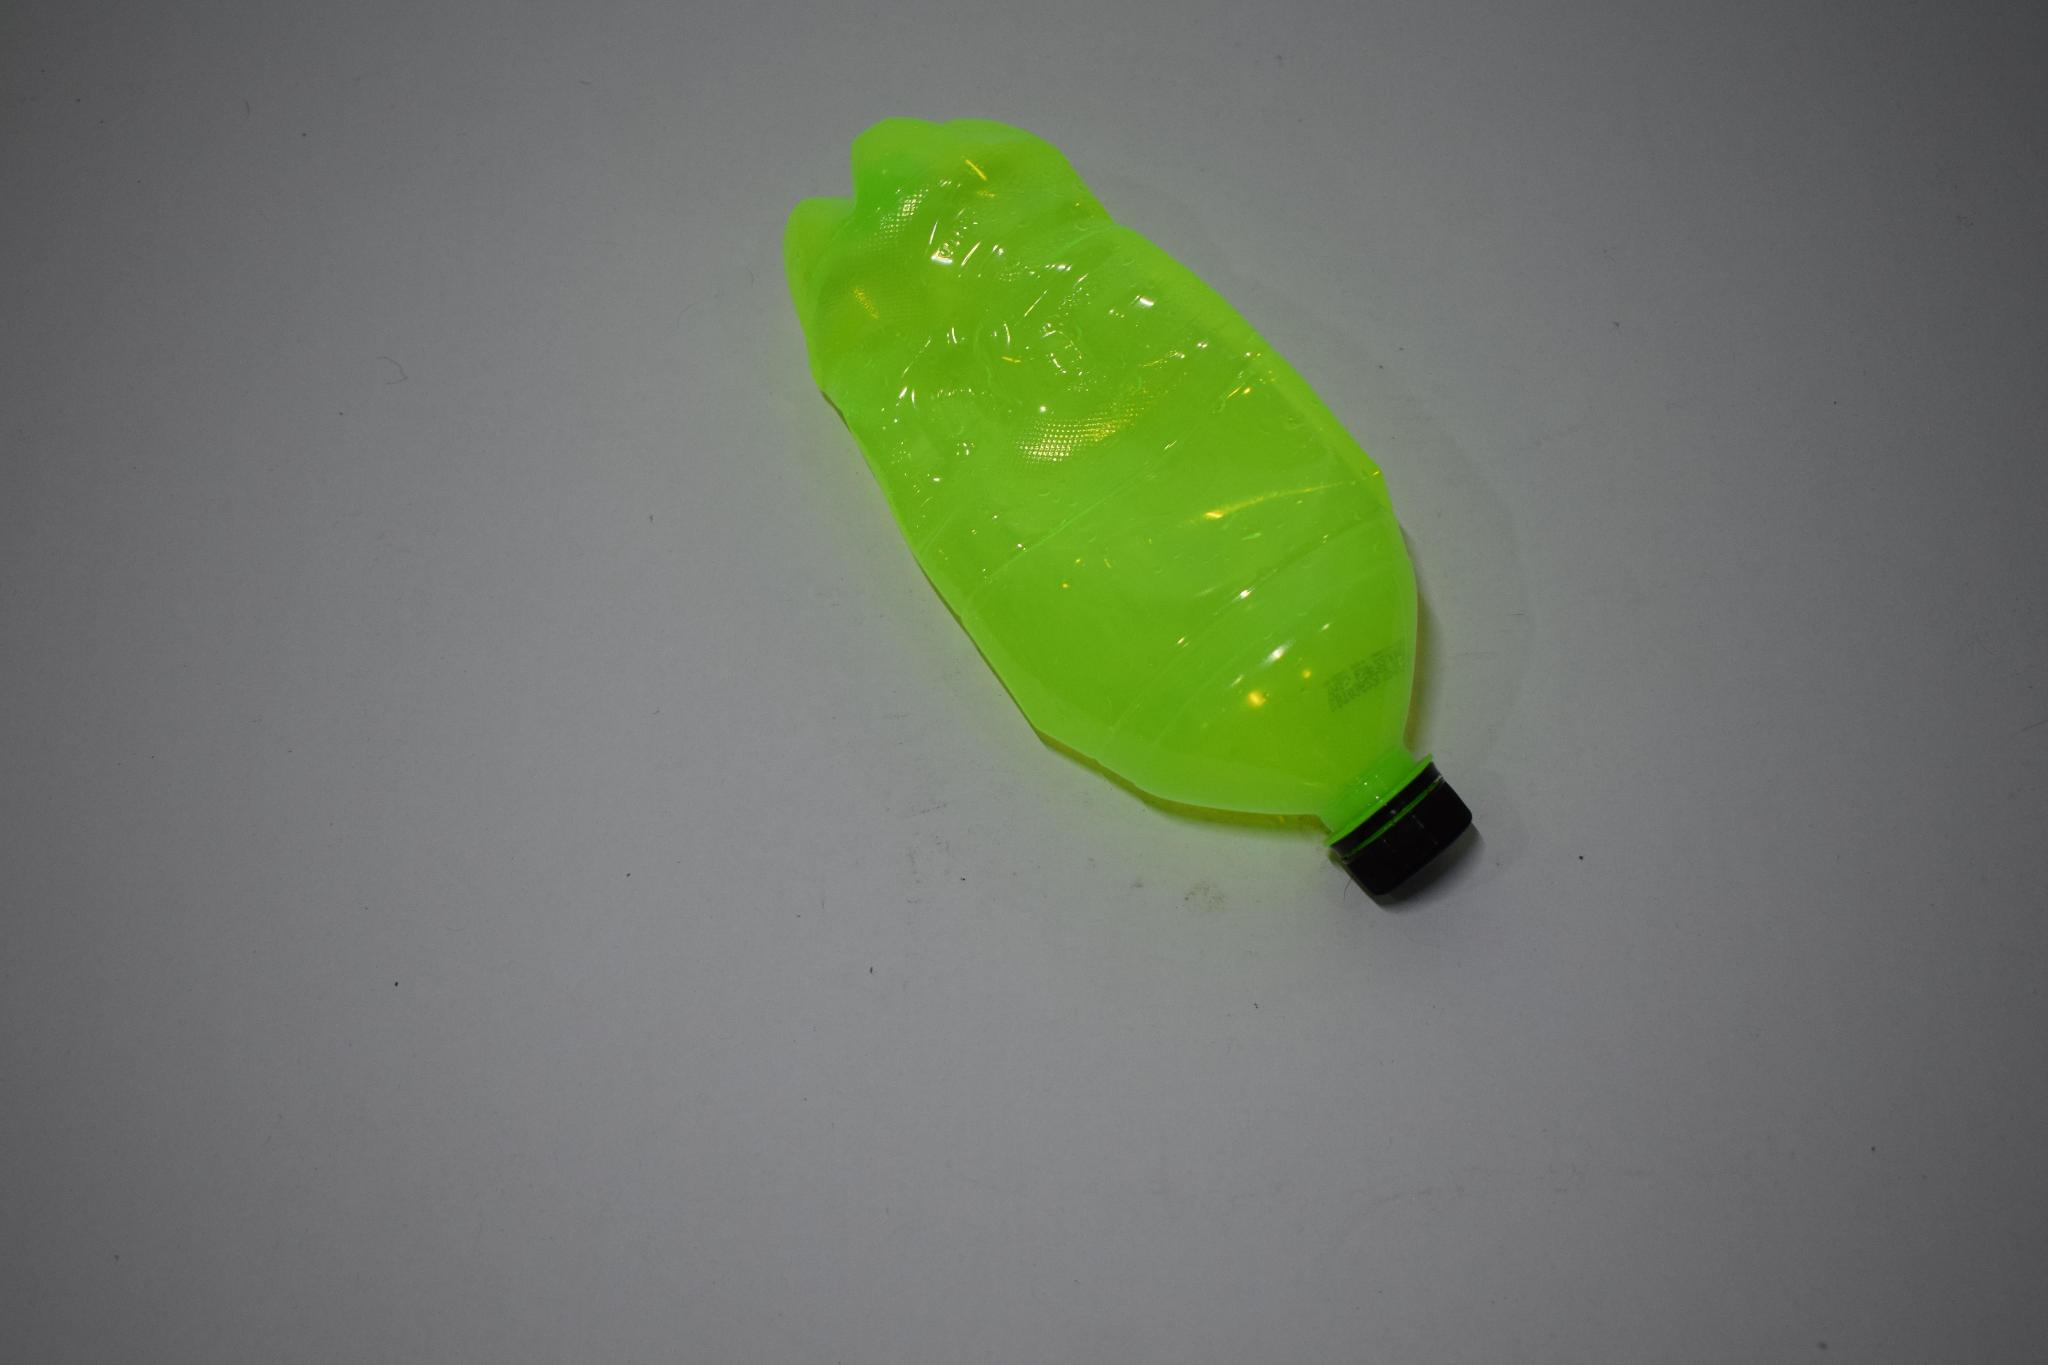bottle: (780, 119, 1485, 911)
